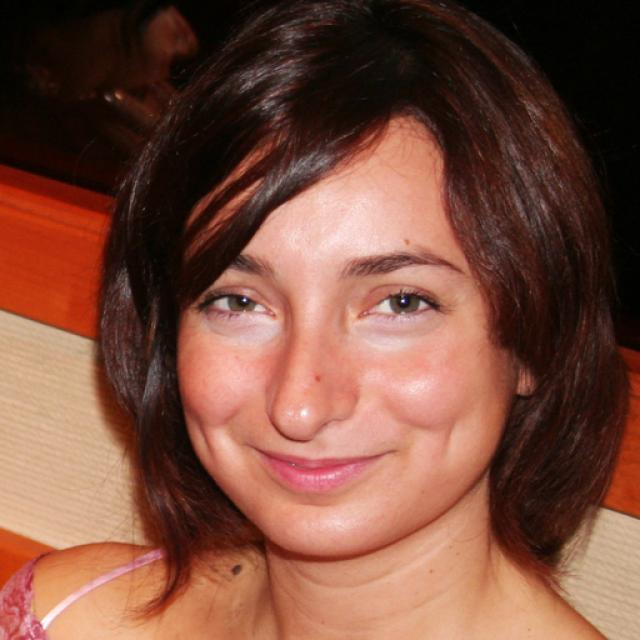Acne: (394, 234, 417, 255), (306, 367, 327, 388)
